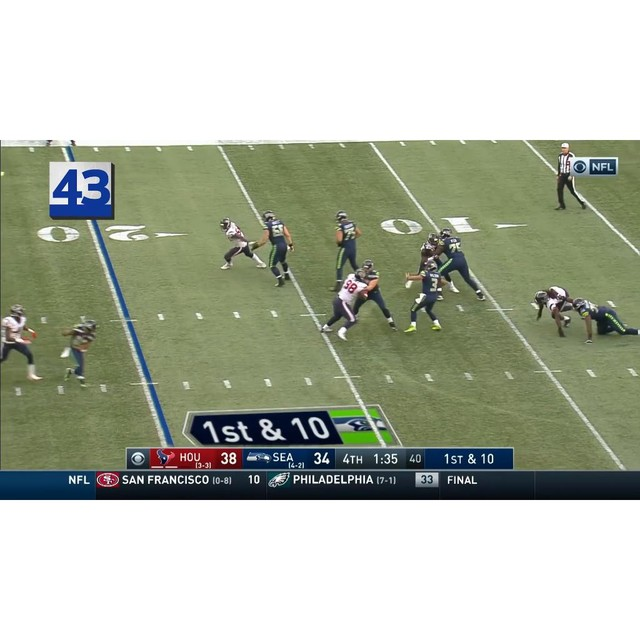american-football-player: (320, 270, 368, 341), (0, 304, 42, 382), (571, 296, 639, 343), (439, 229, 484, 300), (404, 258, 445, 333), (354, 259, 396, 332), (255, 211, 295, 286), (58, 316, 100, 386), (219, 217, 264, 270), (533, 286, 576, 338), (332, 209, 363, 279)
referee: (553, 142, 586, 212)
